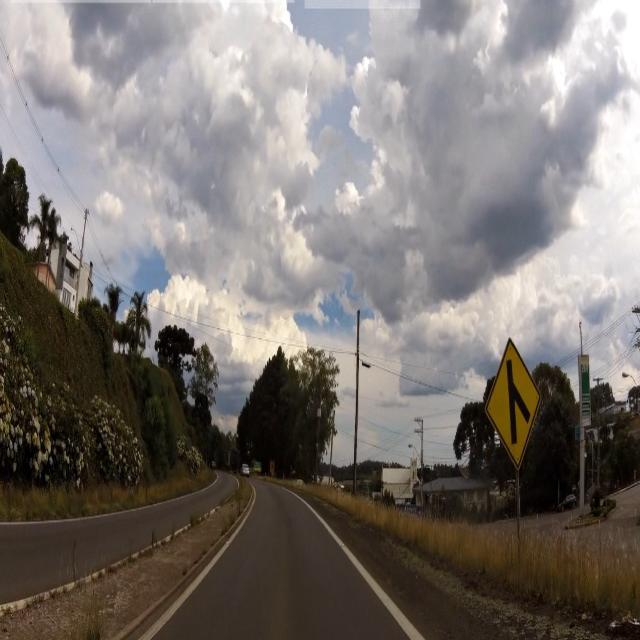A-13b: (481, 340, 546, 466)
